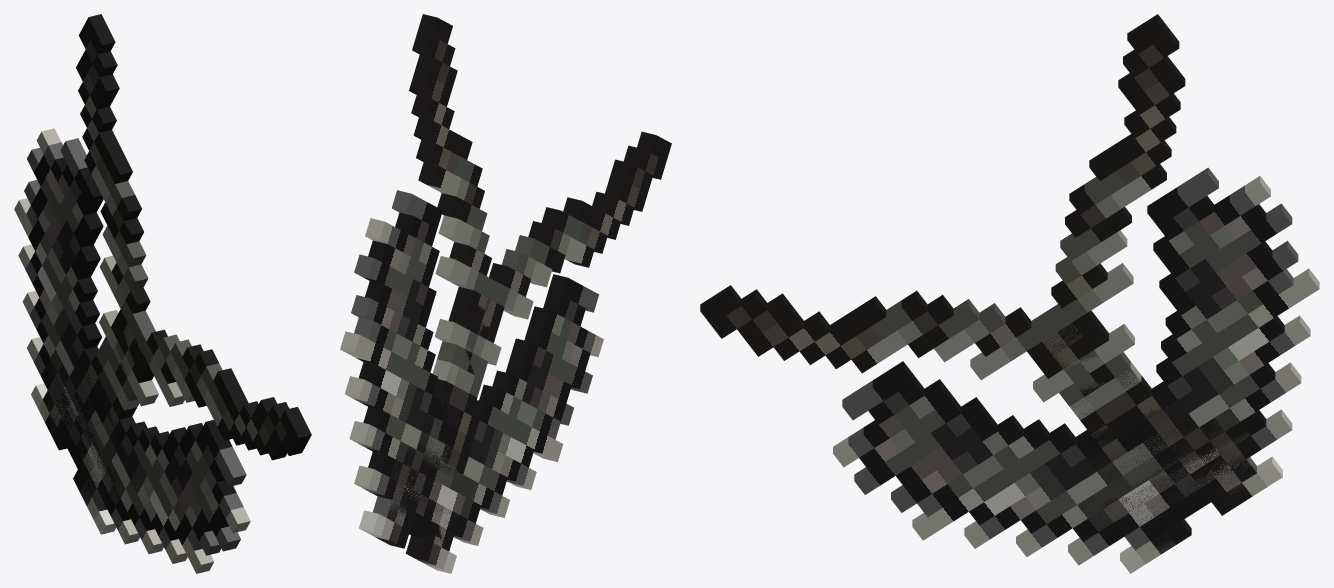
The model's file is saw_cleaver_sickle.glb.
The picture shows the model from 3 angles, left to right: view 1: azimuth 30°, elevation 25°; view 2: azimuth 150°, elevation 25°; view 3: azimuth 270°, elevation 25°; orthographic projection. The views are drawn at different scales.
Visible parts, largest first — view 1: main__Tool_R, off__Tool_L; view 2: off__Tool_L, main__Tool_R; view 3: main__Tool_R, off__Tool_L.
Boxes of the visible parts, x1,y1,x2,y2 form: main__Tool_R: (41, 324, 311, 573); off__Tool_L: (14, 14, 152, 514); off__Tool_L: (340, 14, 494, 561); main__Tool_R: (370, 131, 671, 573); main__Tool_R: (700, 285, 1260, 573); off__Tool_L: (1044, 14, 1319, 552).
Size of the model in its own units: 0.0531 by 1.97 by 2.
Materials: 1 (1 with a texture image).
